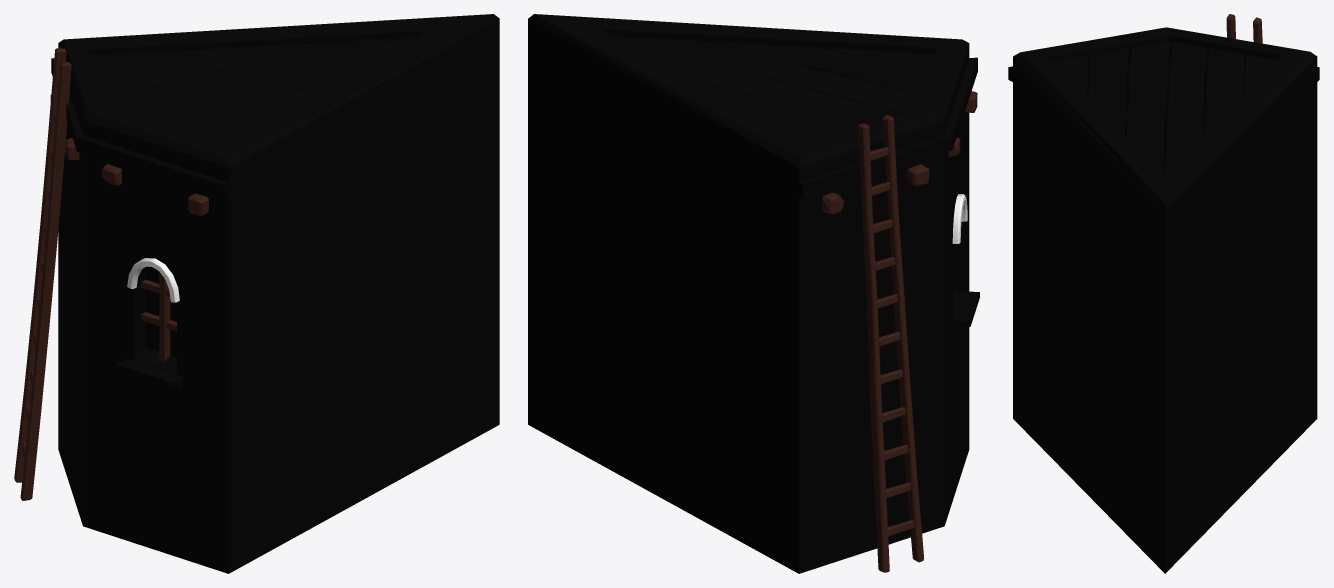
File: civilian_house_42.FBX
3 renders of one model, left to right at view 1: azimuth 30°, elevation 25°; view 2: azimuth 150°, elevation 25°; view 3: azimuth 270°, elevation 25°, orthographic. The views are drawn at different scales.
Visible parts, largest first — view 1: civilian_house_42; view 2: civilian_house_42; view 3: civilian_house_42.
Boxes of the visible parts, left/top/right/bottom form: civilian_house_42: left=14, top=14, right=499, bottom=573; civilian_house_42: left=528, top=14, right=979, bottom=573; civilian_house_42: left=1008, top=14, right=1319, bottom=573.
Bounding box in the file's own units: 907 × 859 × 626.
